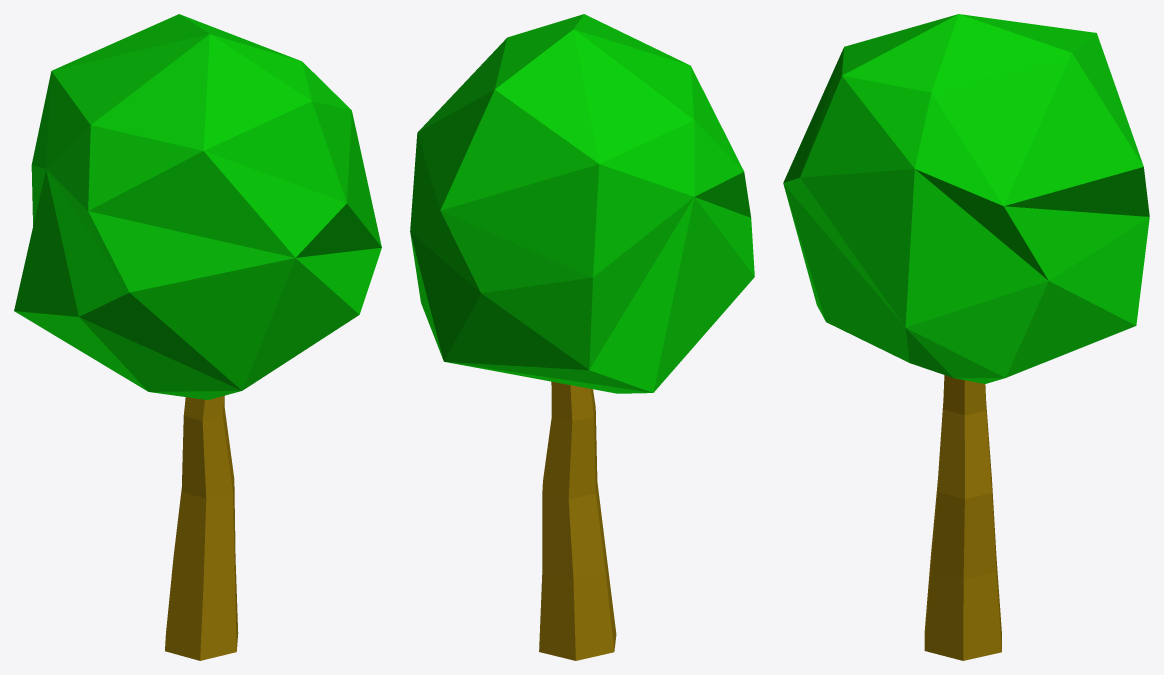
Rendered from low_poly_tree.fbx.
3 views of the same model, side by side, from view 1: azimuth 30°, elevation 25°; view 2: azimuth 150°, elevation 25°; view 3: azimuth 270°, elevation 25° (orthographic). The views are drawn at different scales.
Visible parts, largest first — view 1: pCube1, pCylinder1; view 2: pCube1, pCylinder1; view 3: pCube1, pCylinder1.
Part boxes in pixels (x1,y1,x2,y2): pCube1: (14, 14, 381, 399); pCylinder1: (165, 395, 238, 660); pCube1: (410, 14, 754, 393); pCylinder1: (539, 381, 616, 660); pCube1: (783, 14, 1149, 383); pCylinder1: (924, 375, 1001, 660).
Bounding box in the file's own units: 8.18 × 15.75 × 8.29.
